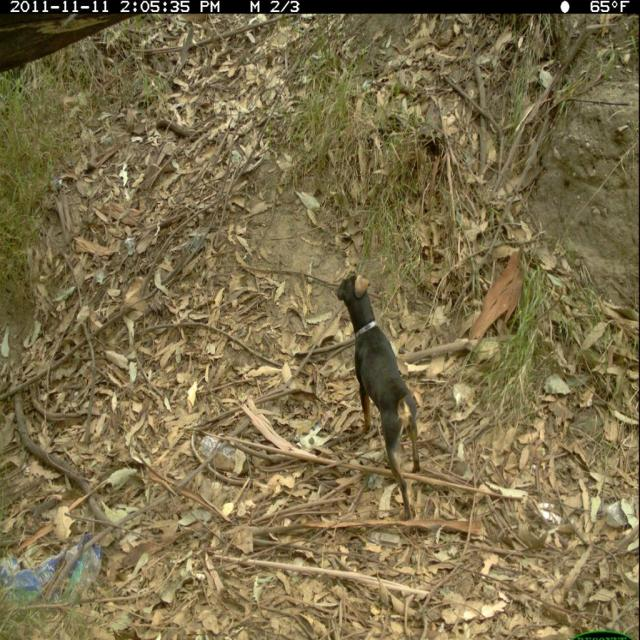dog: (329, 268, 424, 522)
